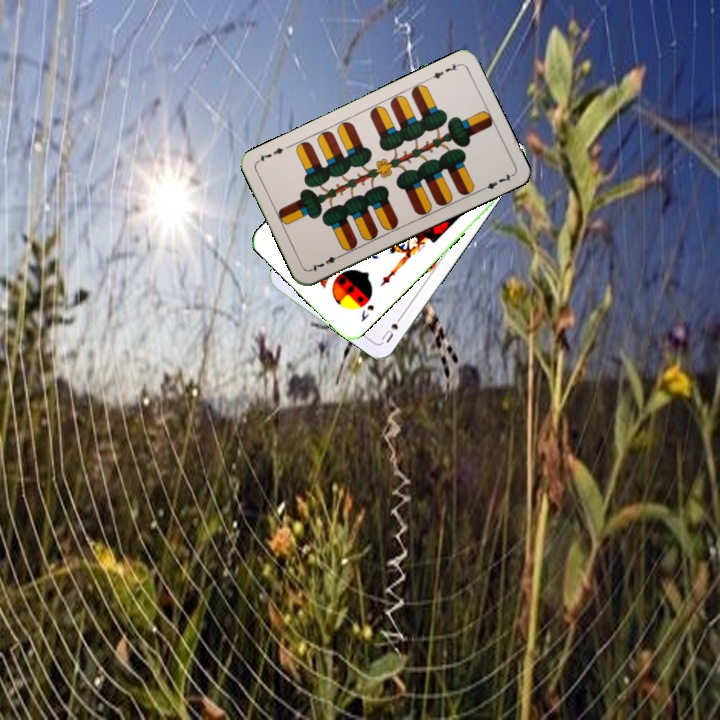E7: (306, 250, 345, 274), (424, 59, 462, 83)
SK: (357, 300, 377, 325)
SU: (377, 309, 406, 345)
